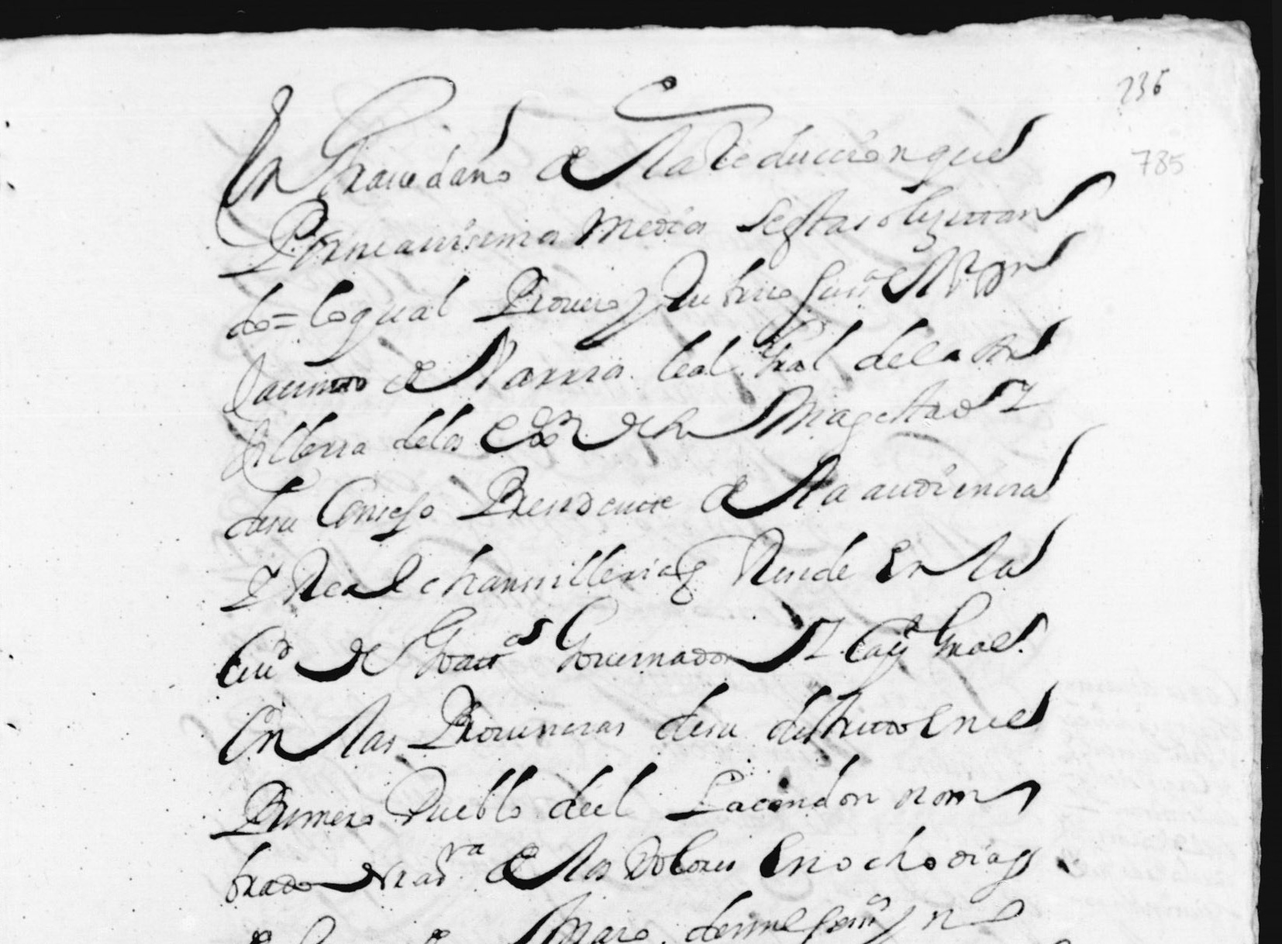lacandon: (664, 753, 878, 821)
